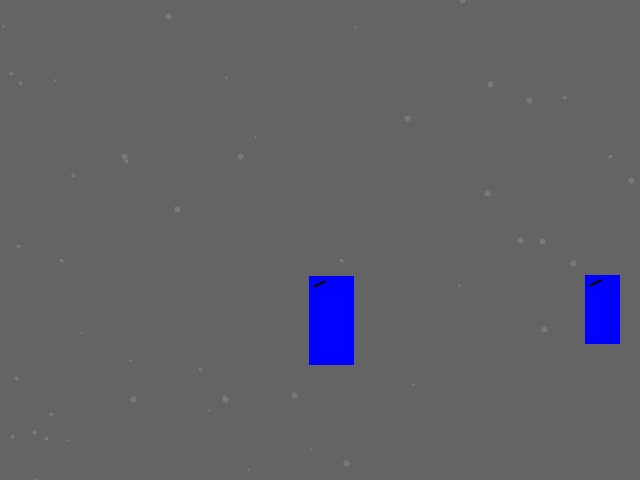motorcycle: (309, 276, 353, 364), (585, 275, 619, 343)
